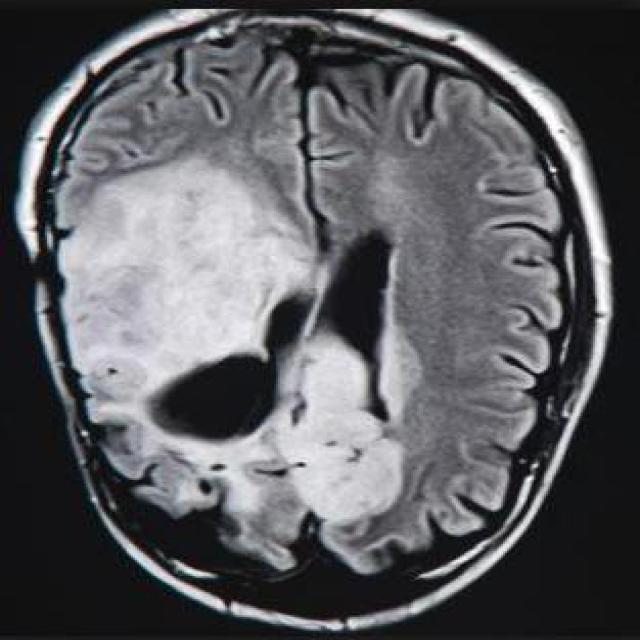Tumor-Cell: (69, 152, 419, 506)
